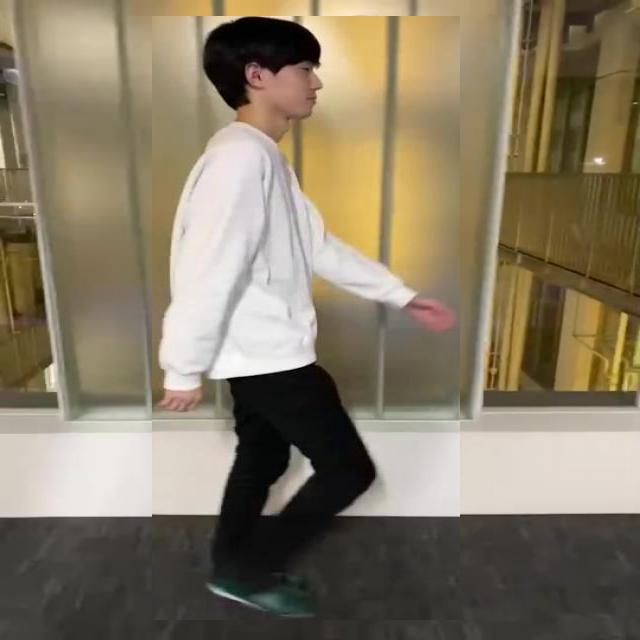direk: (152, 16, 460, 620)
